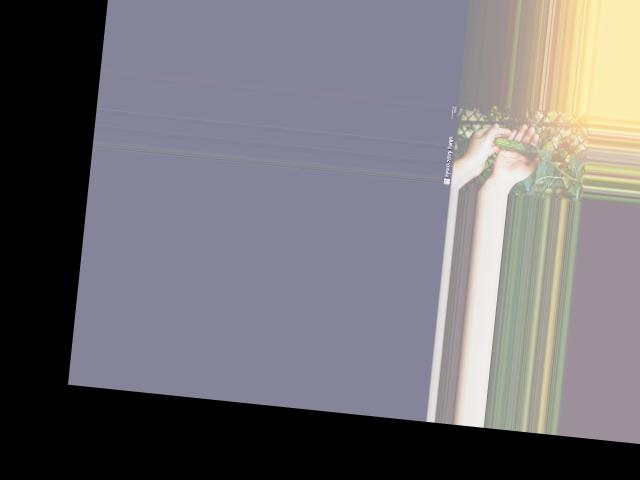cucumber: (493, 136, 538, 157)
